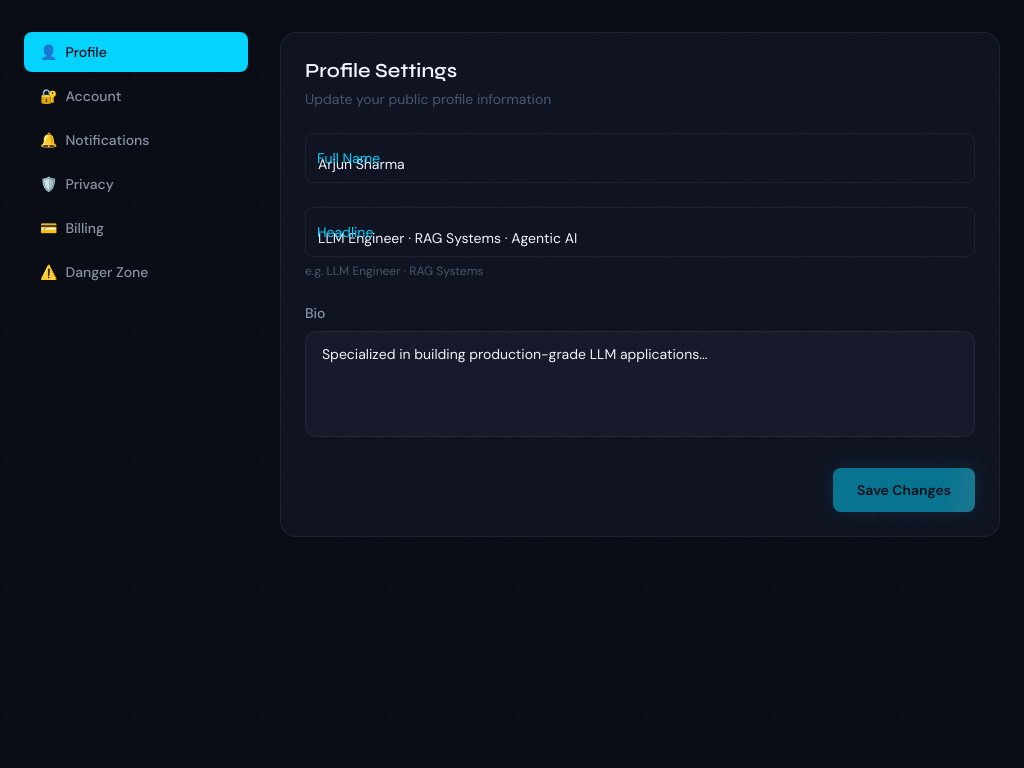
Test: Module 7: Payments, Analytics & Settings › Settings › requires exact email match for account deletion
Click the button "⚠️ Danger Zone".
click(136, 272)  # box 24,252 -> 248,292
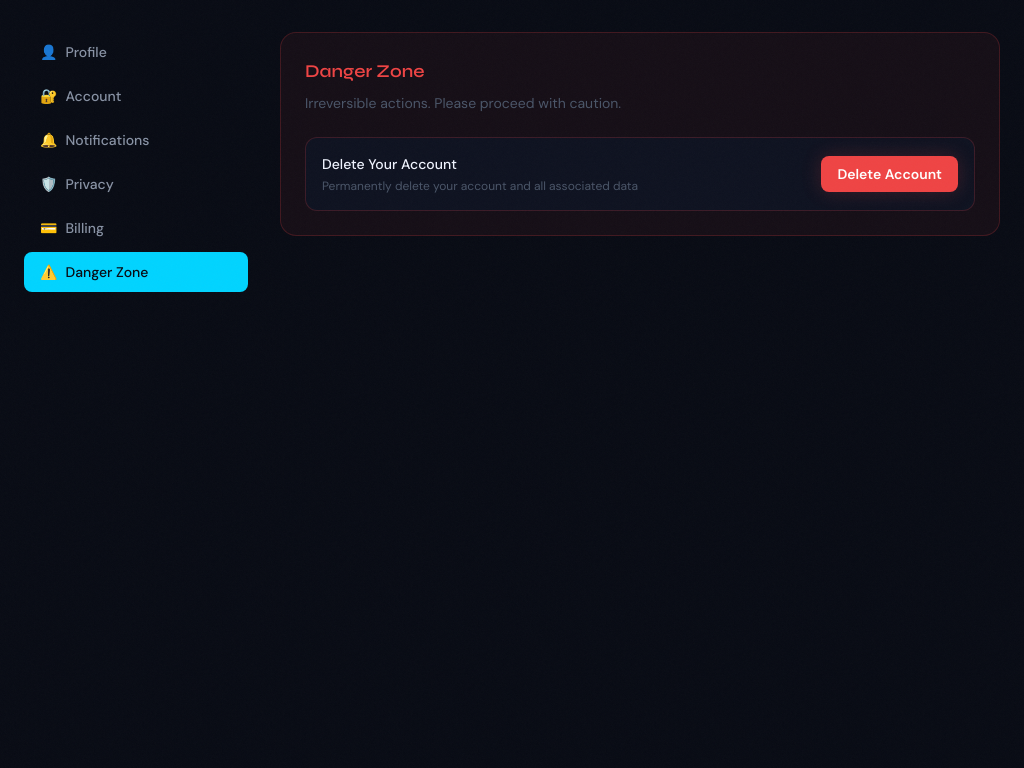
Click the button with test id "open-delete-modal-btn".
click(890, 174)  # box 821,156 -> 958,192
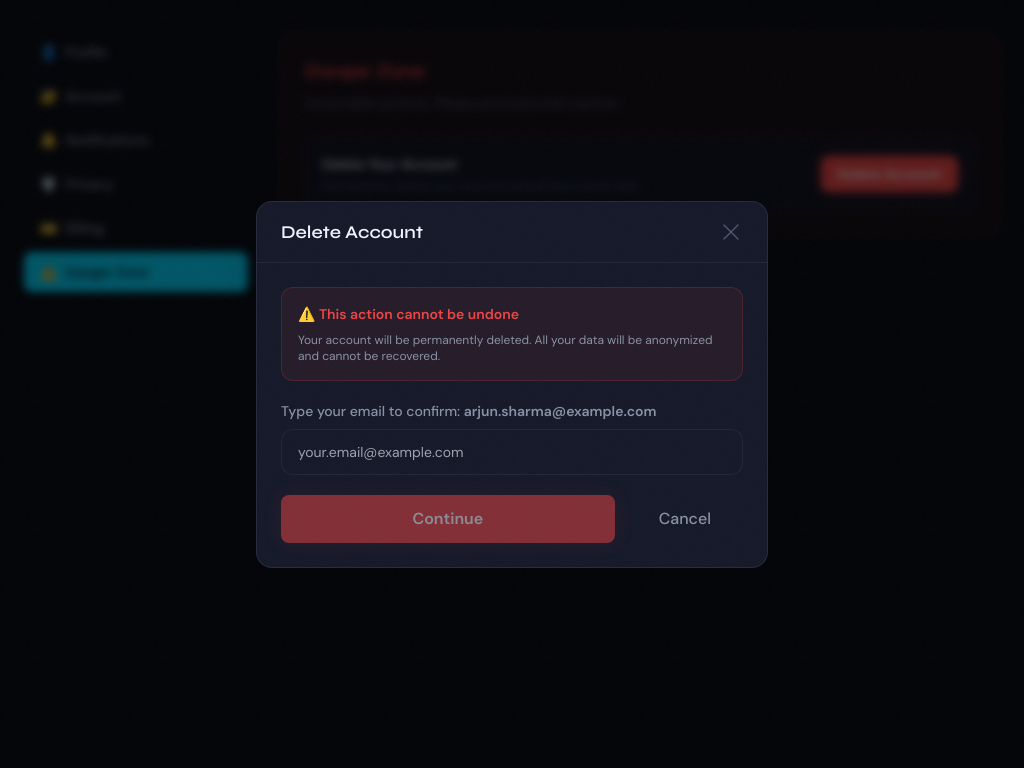
Expected: the heading "Delete Account" is shown, 281,218 -> 423,246
Type "wrong@email.com" into the field with test id "delete-email-input".
click(512, 452); type("wrong@email.com")  # box 281,428 -> 743,474
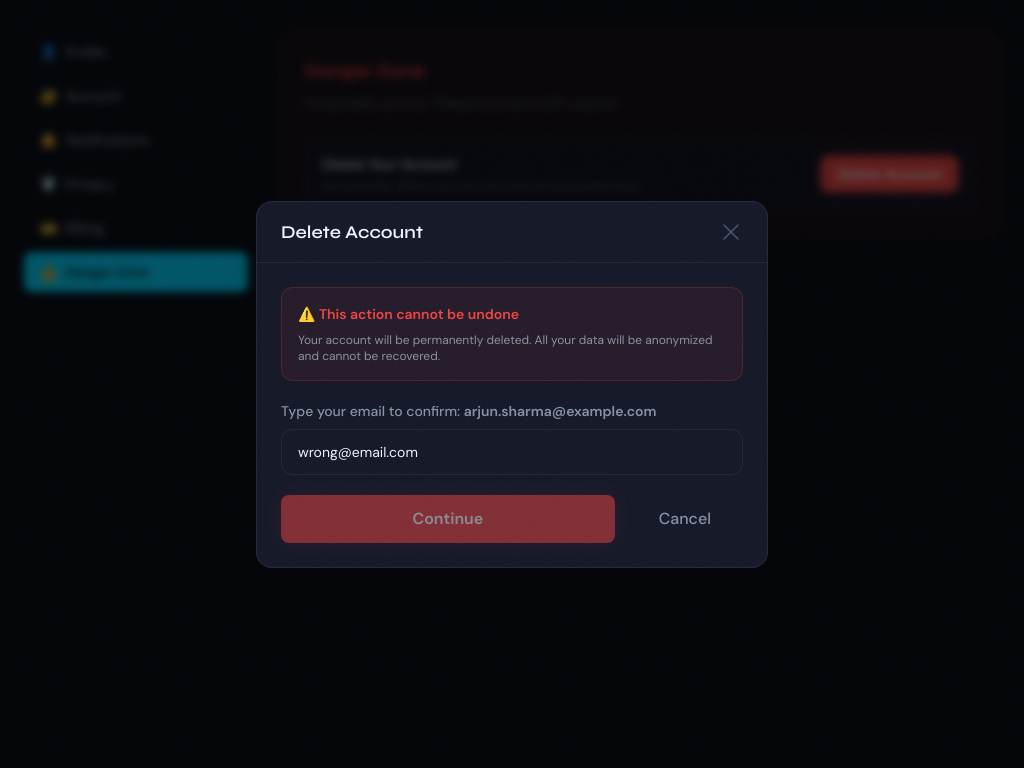
Expected: the button with test id "delete-step1-btn" is disabled, 281,494 -> 615,542
Replace the text in the field with test id "delete-email-input" with "arjun.sharma@example.com" at (512,452), box 281,428 -> 743,474
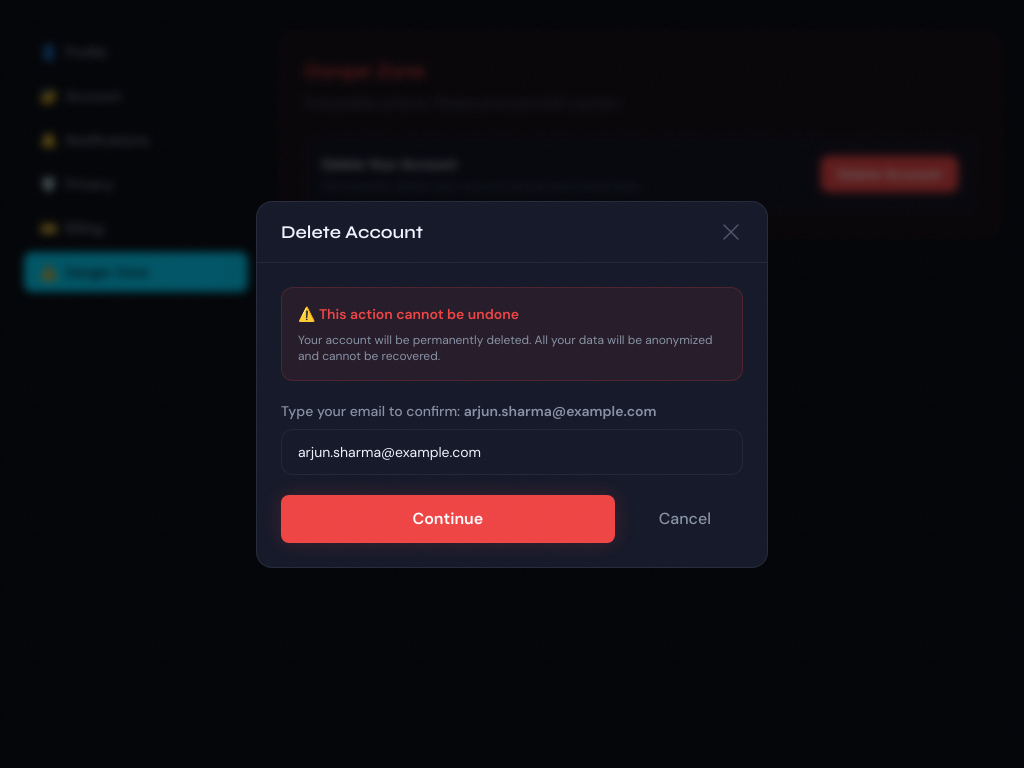
Expected: the button with test id "delete-step1-btn" is enabled, 281,494 -> 615,542
